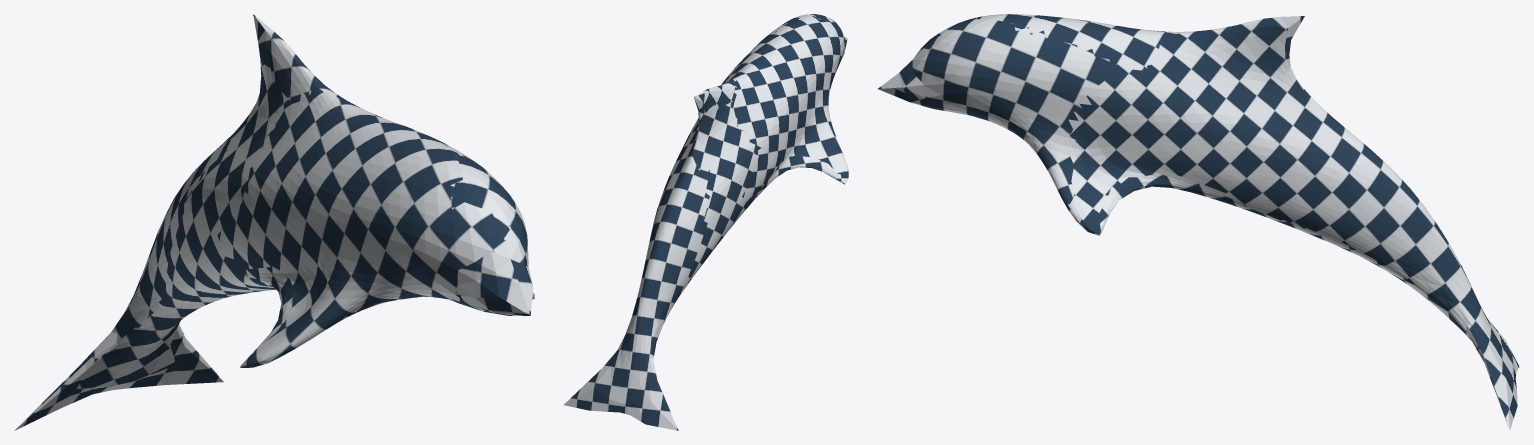
Rendered from packed.obj.
3 renders of one model, left to right at view 1: azimuth 30°, elevation 25°; view 2: azimuth 150°, elevation 25°; view 3: azimuth 270°, elevation 25°, orthographic. The views are drawn at different scales.
Parts seen in each view (by area): view 1: chart_46, chart_52, chart_54, chart_33, chart_50, chart_29, chart_57, chart_35, chart_12; view 2: chart_54, chart_46, chart_52, chart_57; view 3: chart_54, chart_50, chart_46, chart_52, chart_12.
Boxes of the visible parts, x1,y1,x2,y2 form: chart_46: (217, 85, 518, 367); chart_52: (77, 61, 369, 388); chart_54: (14, 15, 346, 430); chart_33: (15, 324, 223, 430); chart_50: (369, 144, 534, 315); chart_29: (455, 251, 530, 315); chart_57: (240, 266, 292, 367); chart_35: (456, 295, 529, 315); chart_12: (510, 259, 533, 315); chart_54: (563, 65, 738, 430); chart_46: (728, 16, 848, 202); chart_52: (670, 98, 765, 310); chart_57: (755, 155, 848, 197); chart_54: (1068, 16, 1519, 430); chart_50: (910, 17, 1114, 230); chart_46: (912, 14, 1189, 70); chart_52: (1098, 70, 1471, 340); chart_12: (878, 60, 925, 102).
Size of the model in its own units: 0.2813 by 0.4613 by 0.7142.
Materials: 1 (1 with a texture image).
